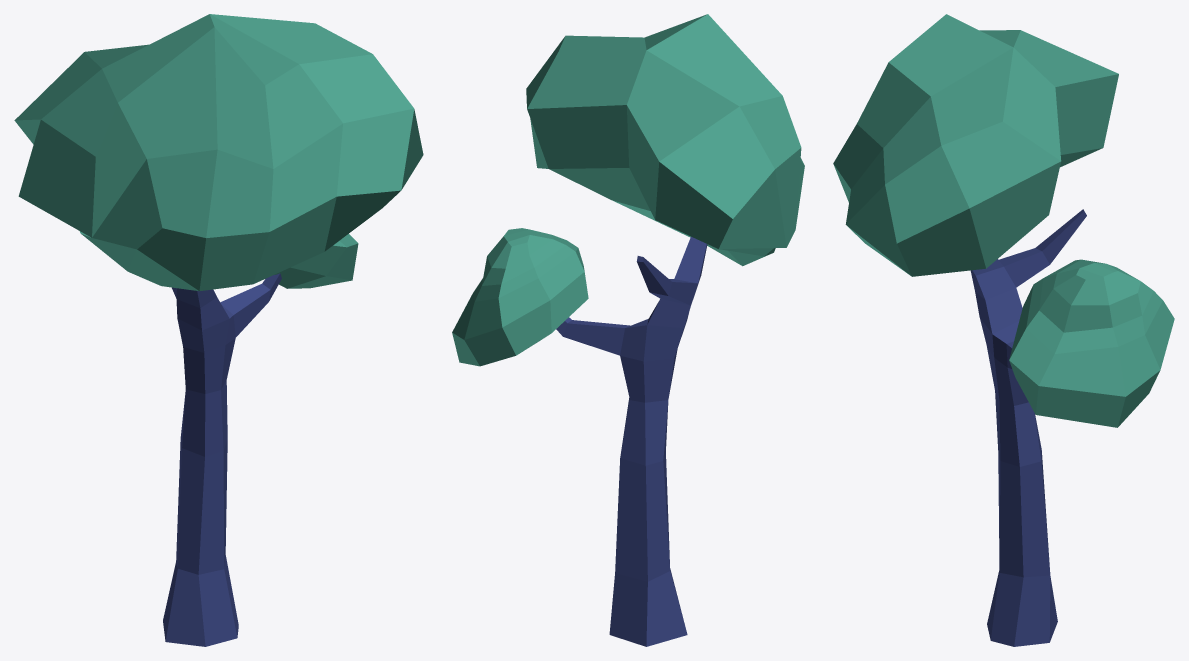
Rendered from Playground_Tree.fbx.
3 renders of one model, left to right at view 1: azimuth 30°, elevation 25°; view 2: azimuth 150°, elevation 25°; view 3: azimuth 270°, elevation 25°, orthographic. The views are drawn at different scales.
Visible parts, largest first — view 1: Playground_Tree; view 2: Playground_Tree; view 3: Playground_Tree.
Boxes of the visible parts, x1=… form: Playground_Tree: x1=14, y1=14, x2=423, y2=646; Playground_Tree: x1=452, y1=14, x2=804, y2=646; Playground_Tree: x1=833, y1=14, x2=1174, y2=646.
Size of the model in its own units: 224 by 411 by 210.
